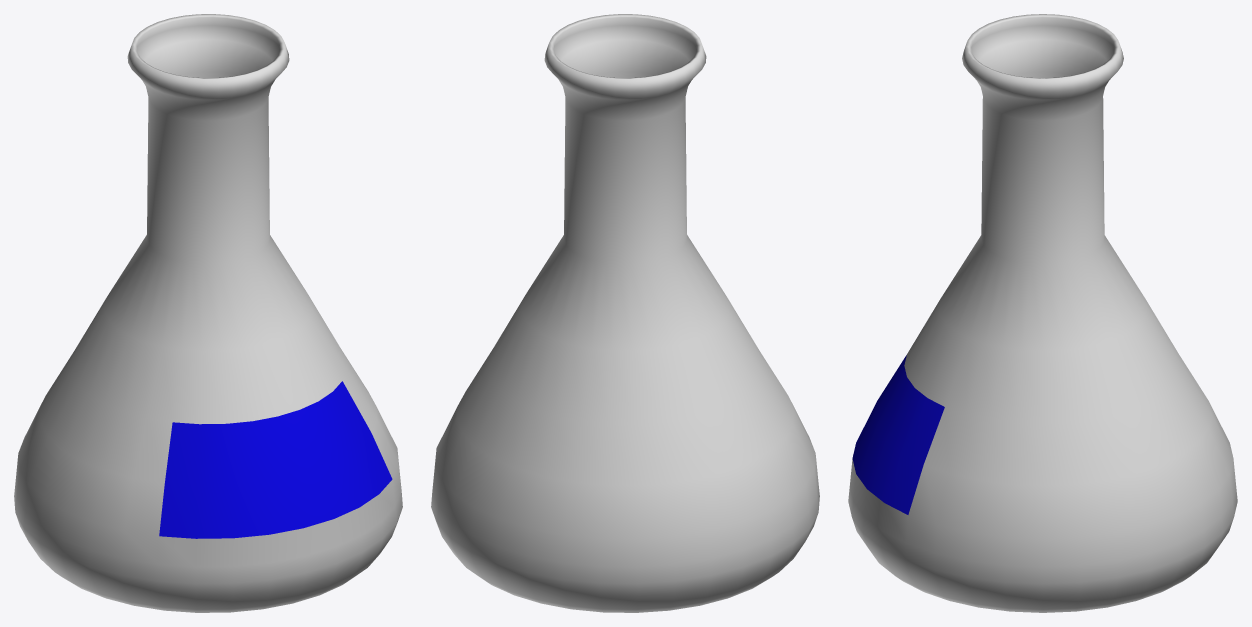
File: RewKolba.fbx
3 renders of one model, left to right at view 1: azimuth 30°, elevation 25°; view 2: azimuth 150°, elevation 25°; view 3: azimuth 270°, elevation 25°, orthographic.
Visible parts, largest first — view 1: Kolba.001, Kolba; view 2: Kolba.001; view 3: Kolba.001, Kolba.
Part boxes in pixels (bbox=[...]): Kolba.001: bbox=[14, 14, 402, 612]; Kolba: bbox=[159, 381, 392, 538]; Kolba.001: bbox=[431, 14, 819, 612]; Kolba.001: bbox=[848, 14, 1237, 612]; Kolba: bbox=[852, 355, 944, 514].
Bounding box in the file's own units: 153 × 217 × 153.
